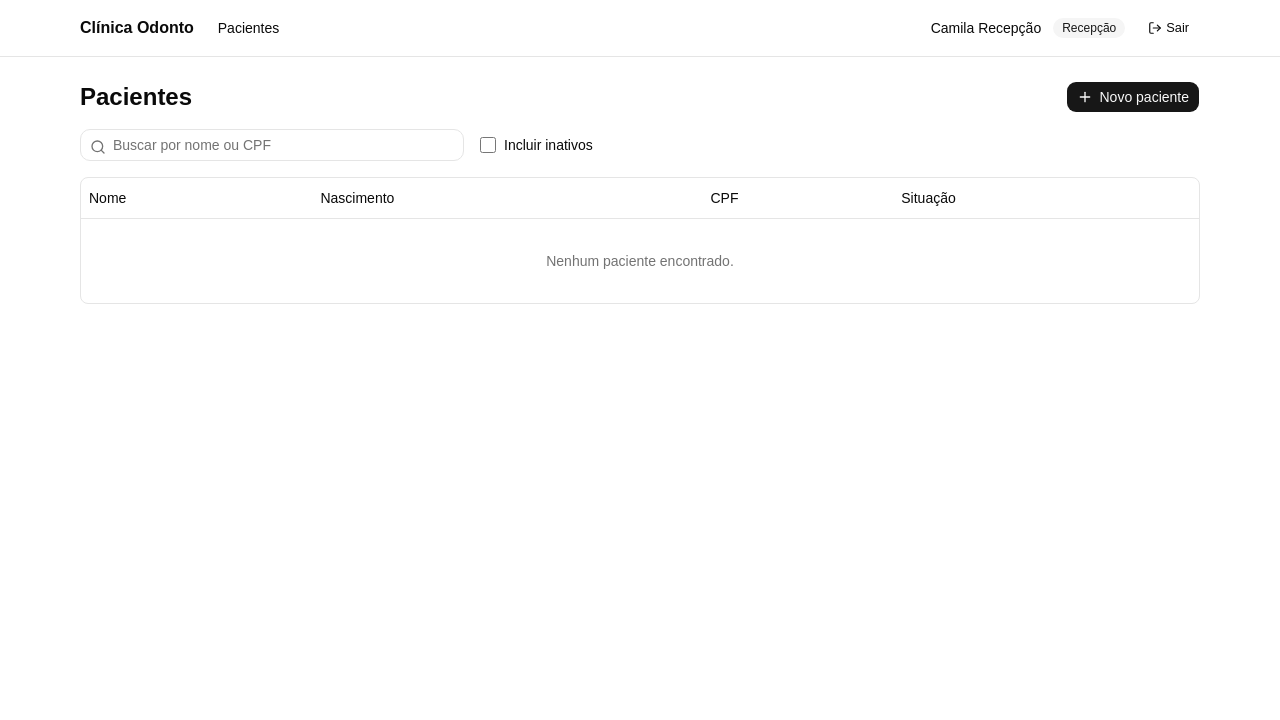
Test case: autenticação › sair encerra a sessão e volta ao login
This screenshot has width=1280, height=720.
What coordinates should you click on to do the following:
click the button "Sair"
I would click on:
 (1169, 28)
Its box is [1137,14,1200,42].
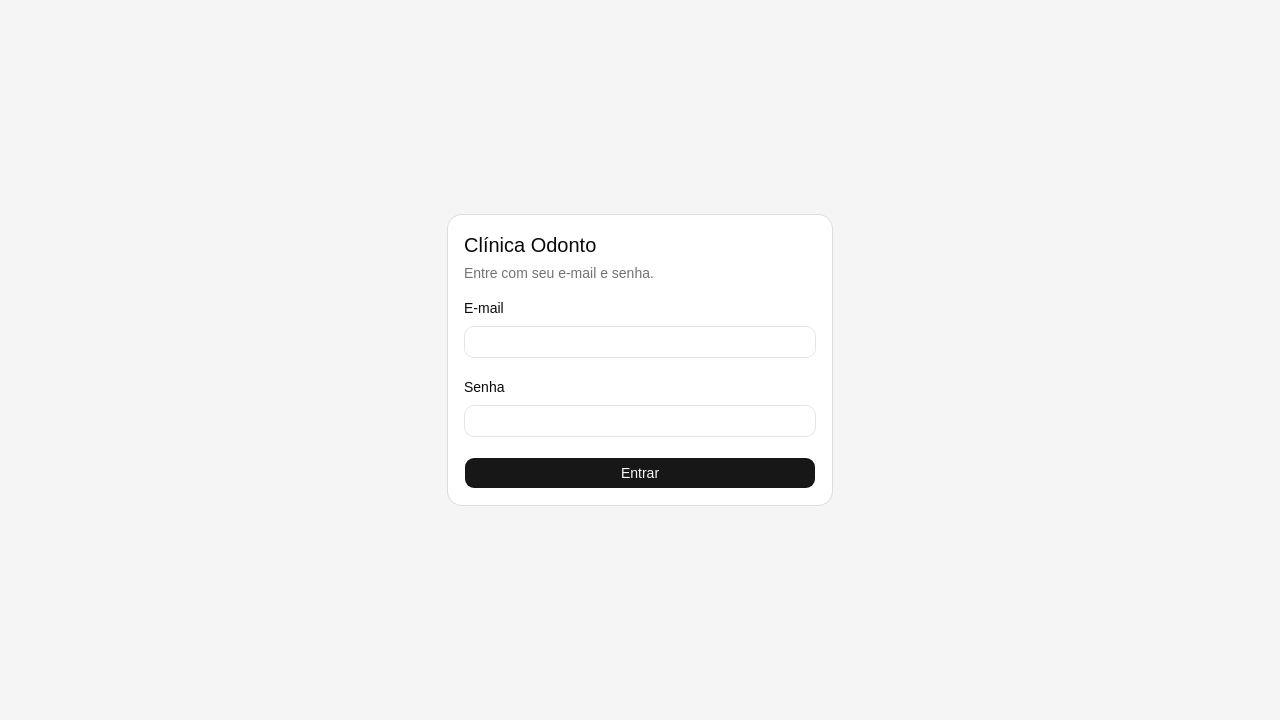
Now the button "Entrar" is shown, box [464,457,816,489]
